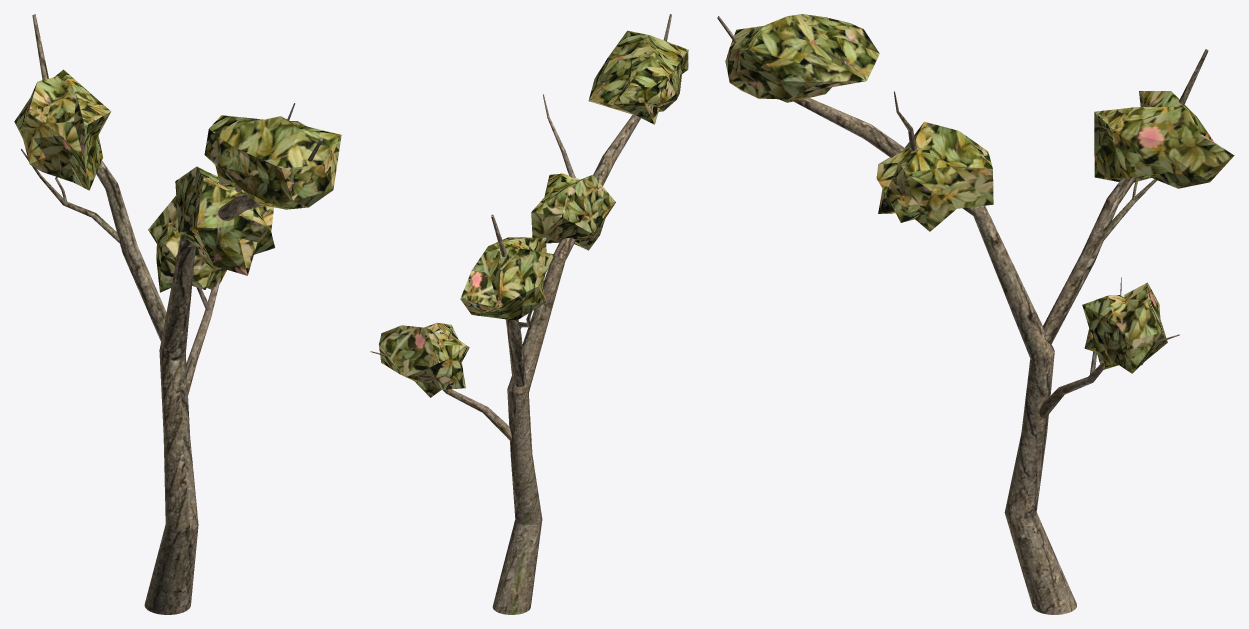
File: BushPlantDry.fbx
3 renders of one model, left to right at view 1: azimuth 30°, elevation 25°; view 2: azimuth 150°, elevation 25°; view 3: azimuth 270°, elevation 25°, orthographic. The views are drawn at different scales.
Parts seen in each view (by area): view 1: BushPlantDry; view 2: BushPlantDry; view 3: BushPlantDry.
Part boxes in pixels (<box>): BushPlantDry: <box>14,14,341,614</box>; BushPlantDry: <box>370,14,688,614</box>; BushPlantDry: <box>717,14,1234,614</box>.
Bounding box in the file's own units: 0.2935 × 0.6285 × 0.7779.
